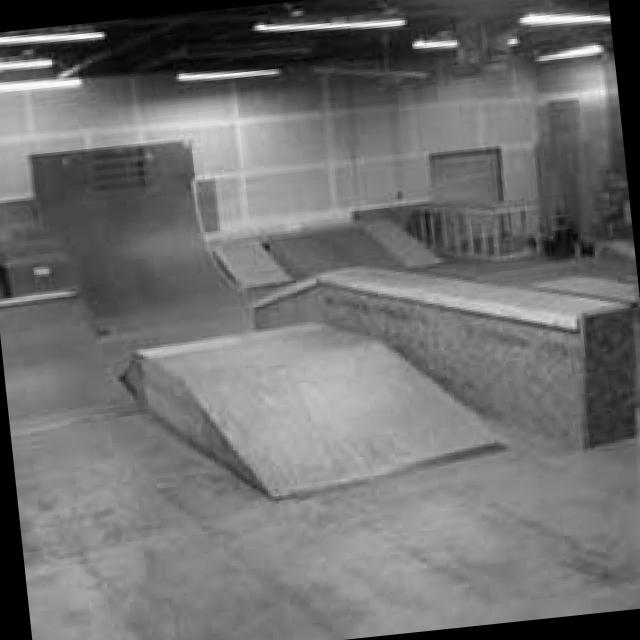floor -X: (3, 235, 640, 640)
handrail: (418, 199, 551, 259)
lamp crop: (256, 14, 407, 30), (0, 28, 107, 41), (521, 11, 610, 25)
wall clock: (0, 56, 551, 316), (534, 48, 631, 248)
